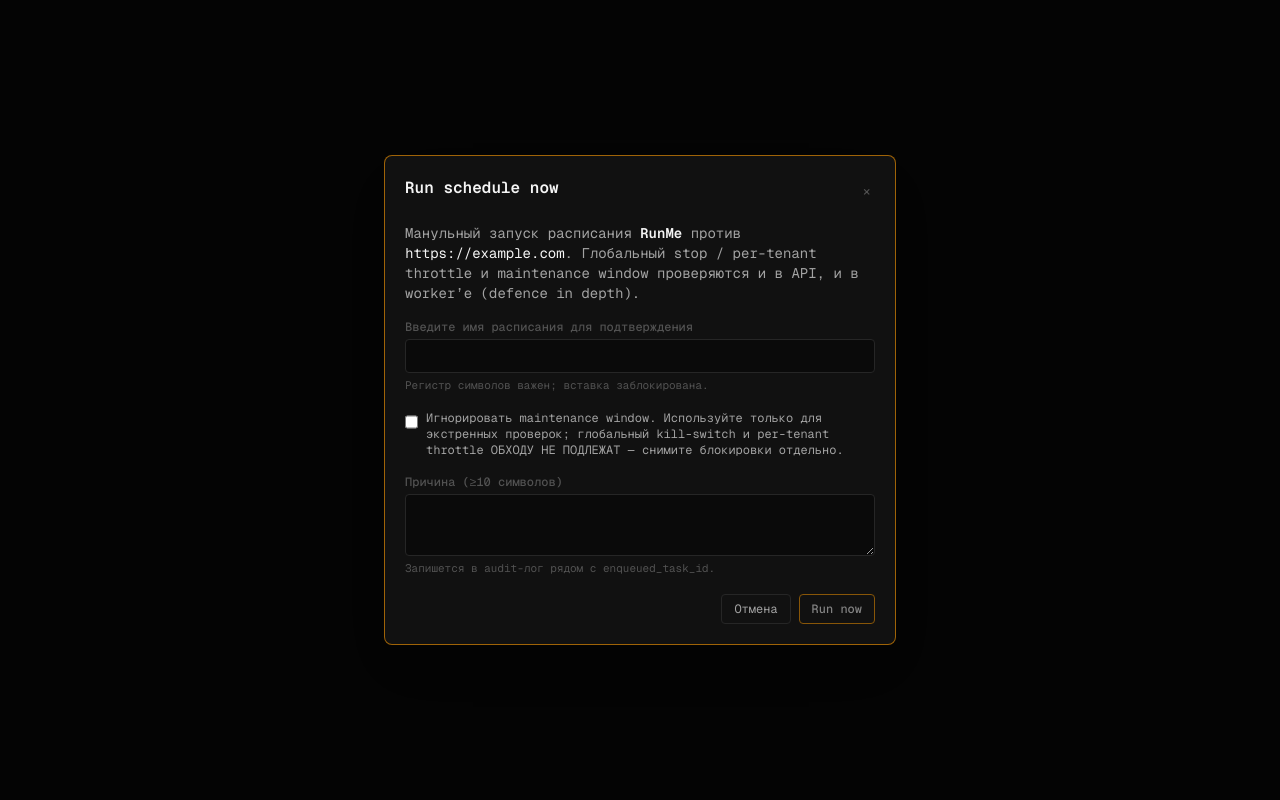
Scenario: RunNowDialog › renders a closed-taxonomy RU sentence on backend error and surfaces error code
This screenshot has width=1280, height=800.
In the field with test id "run-now-typed-name": (640, 356) top-left (405, 339), bottom-right (875, 373), type "RunMe"
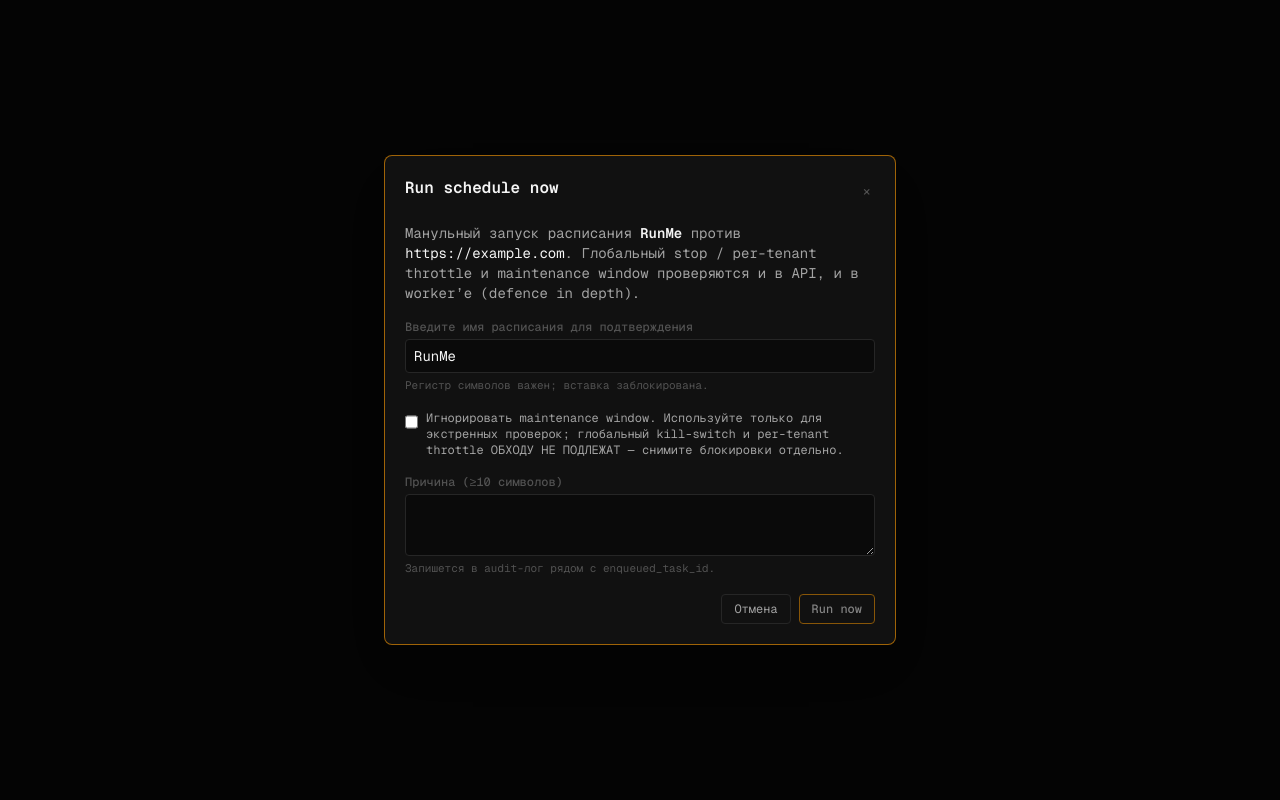
In the text box with test id "run-now-reason": (640, 525) top-left (405, 494), bottom-right (875, 556), type "manual override during incident soak"
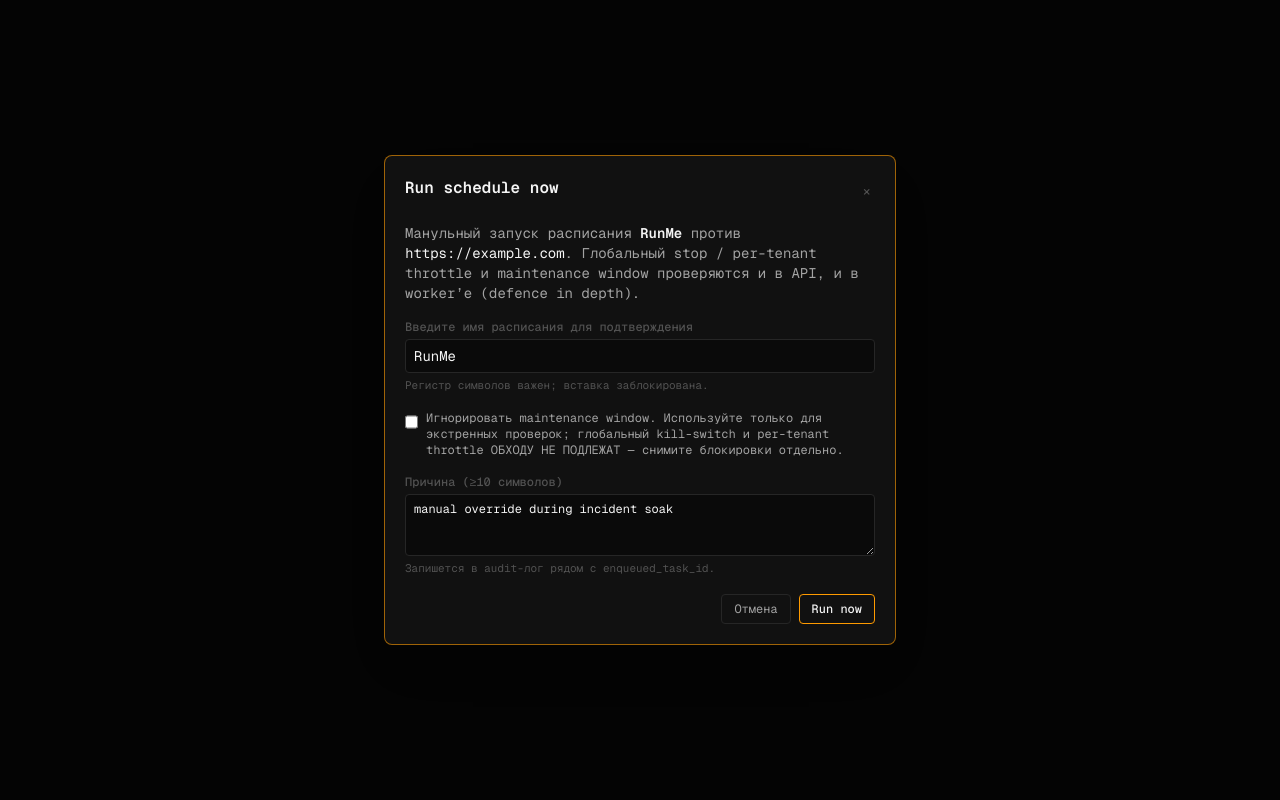
Click the button with test id "run-now-confirm": (837, 609) top-left (799, 594), bottom-right (875, 624)
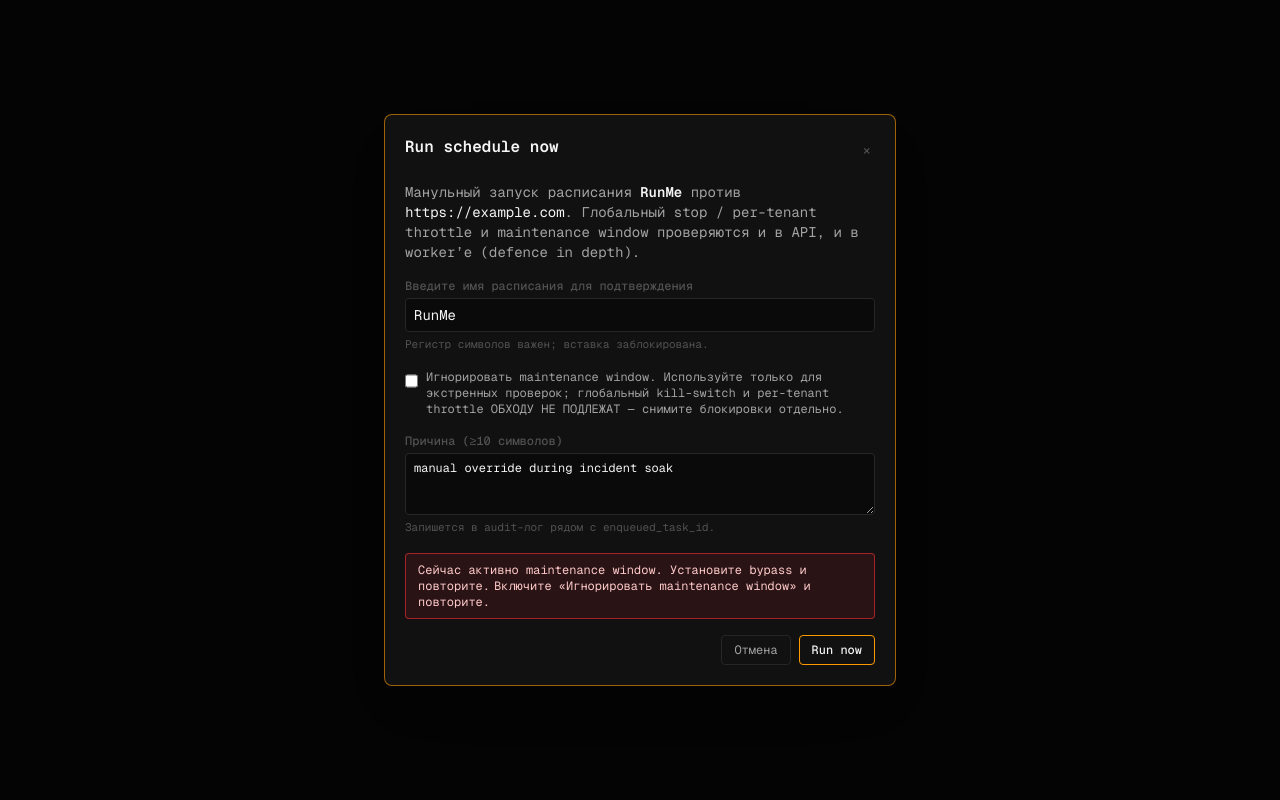
Now the message with test id "run-now-error" shows "maintenance window", box top-left (418, 562), bottom-right (807, 594)
Now the message with test id "run-now-error" shows "Игнорировать maintenance window", box top-left (418, 578), bottom-right (811, 610)
